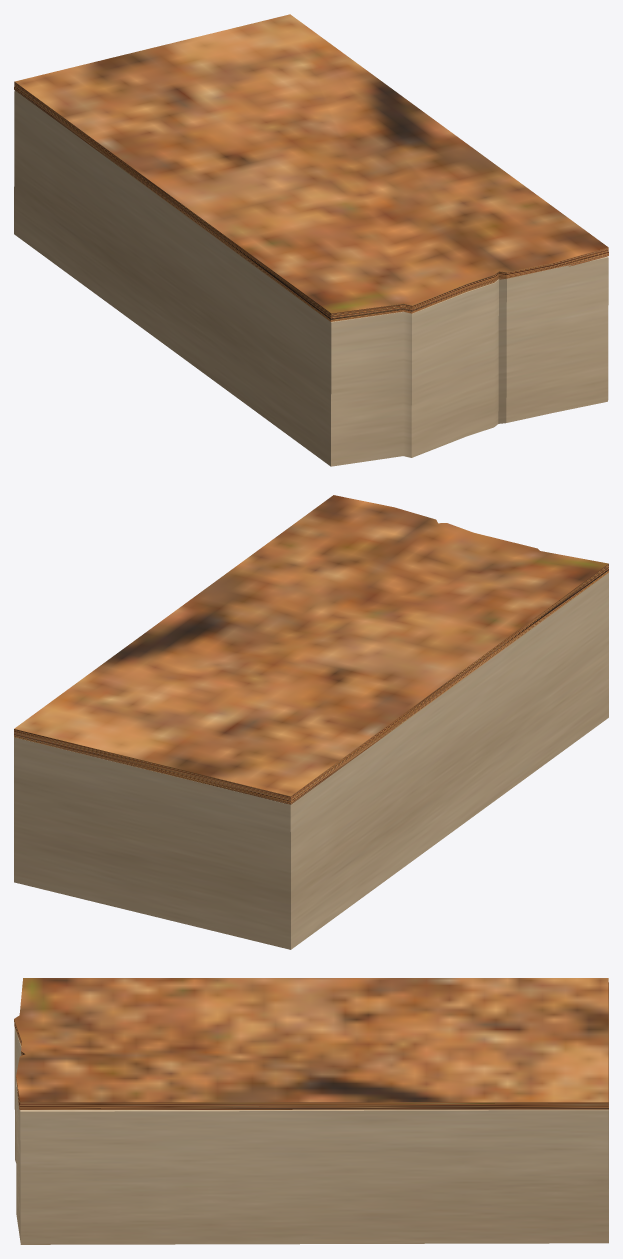
Rendered from Border_1(1).fbx.
The picture shows the model from 3 angles, top to bottom: view 1: azimuth 30°, elevation 25°; view 2: azimuth 150°, elevation 25°; view 3: azimuth 270°, elevation 25°; orthographic projection. The views are drawn at different scales.
Visible parts, largest first — view 1: BORDER_1; view 2: BORDER_1; view 3: BORDER_1.
Boxes of the visible parts, x1,y1,x2,y2 form: BORDER_1: [14, 14, 608, 466]; BORDER_1: [14, 495, 608, 949]; BORDER_1: [14, 978, 608, 1244].
Bounding box in the file's own units: 5005 × 2771 × 10114.
Materials: 2 (2 with a texture image).
